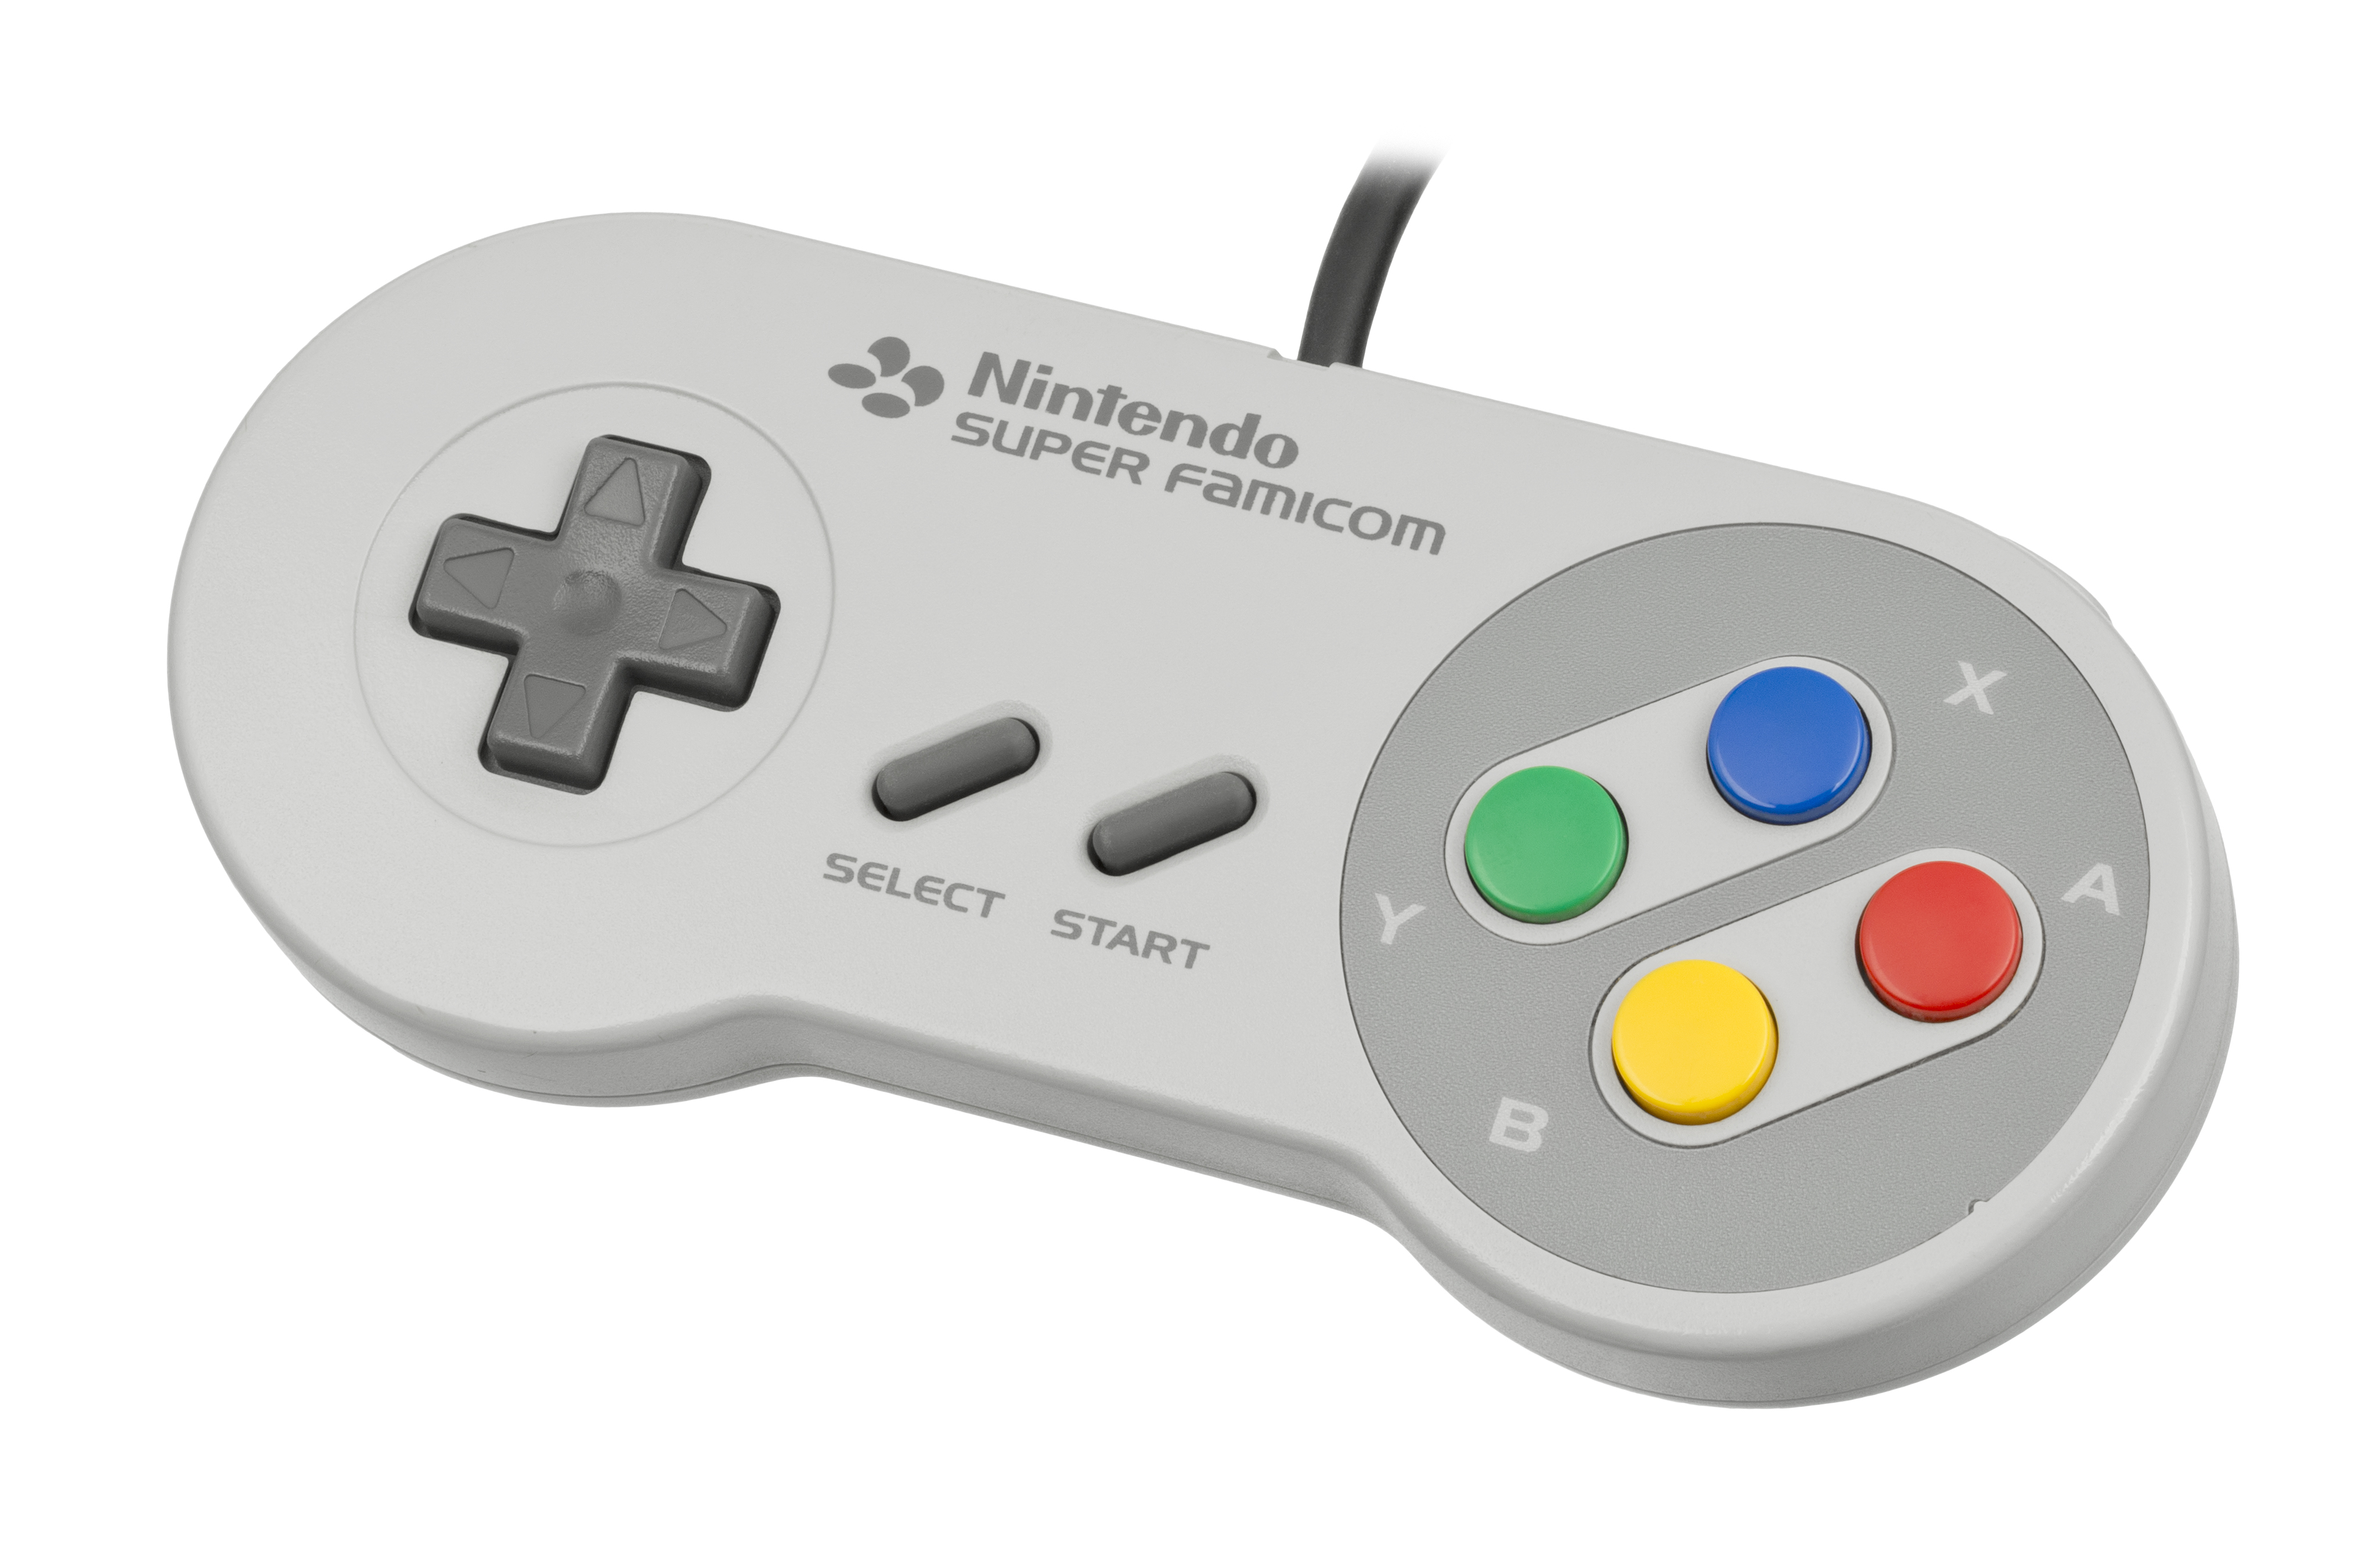controller: (168, 210, 2240, 1406)
